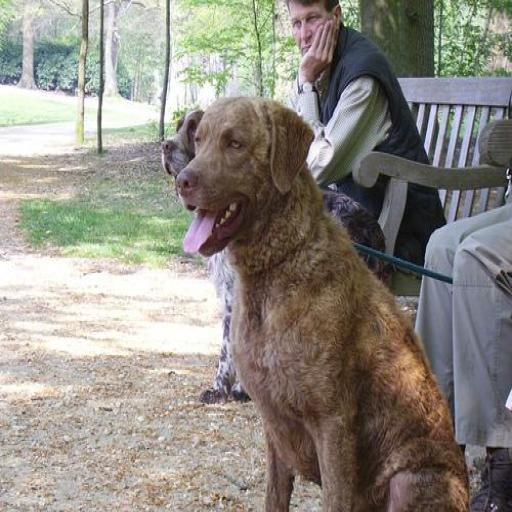dog_face: (178, 102, 308, 260)
